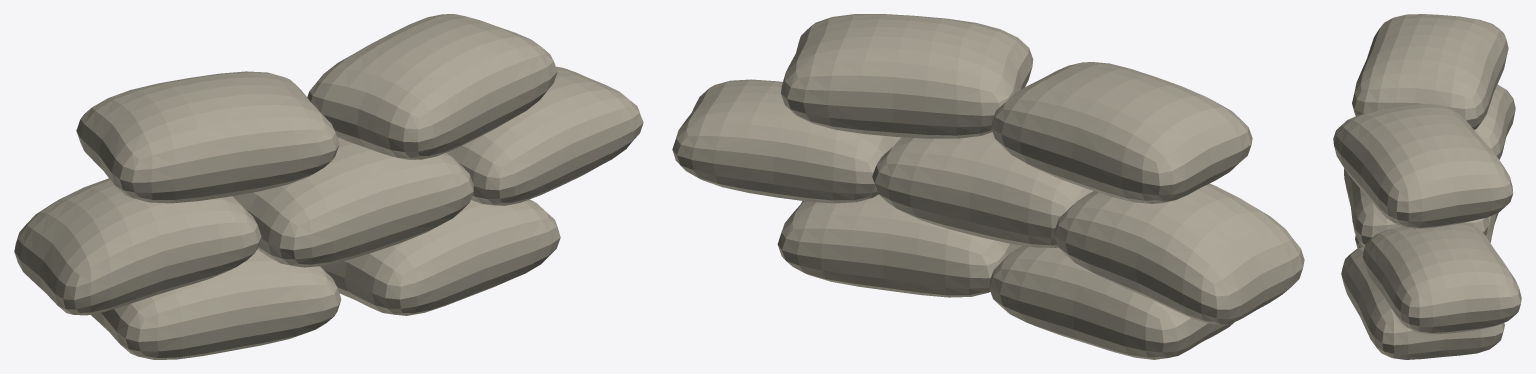
File: p_nest.glb
3 renders of one model, left to right at view 1: azimuth 30°, elevation 25°; view 2: azimuth 150°, elevation 25°; view 3: azimuth 270°, elevation 25°, orthographic. The views are drawn at different scales.
Parts seen in each view (by area): view 1: hull; view 2: hull; view 3: hull.
Part boxes in pixels (box(x1,y1,x2,y2)): hull: box(14, 14, 643, 359); hull: box(672, 14, 1304, 359); hull: box(1333, 14, 1521, 359).
Size of the model in its own units: 2.3 by 0.9263 by 0.7525.
